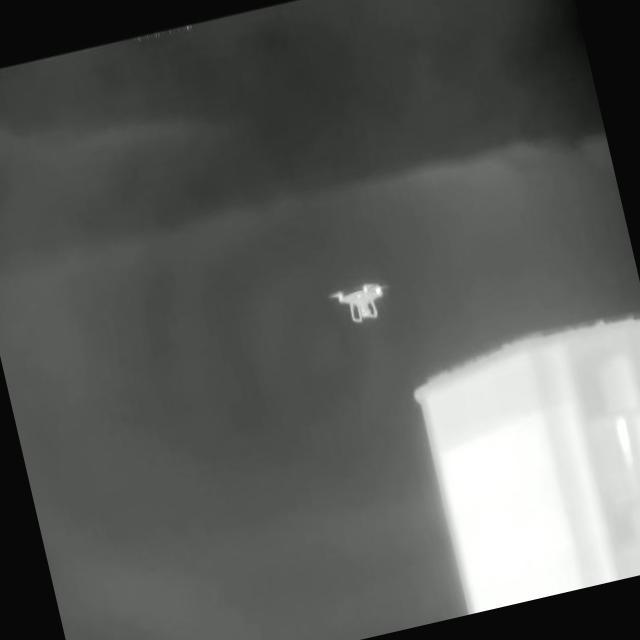DRONE: (327, 278, 392, 325)
